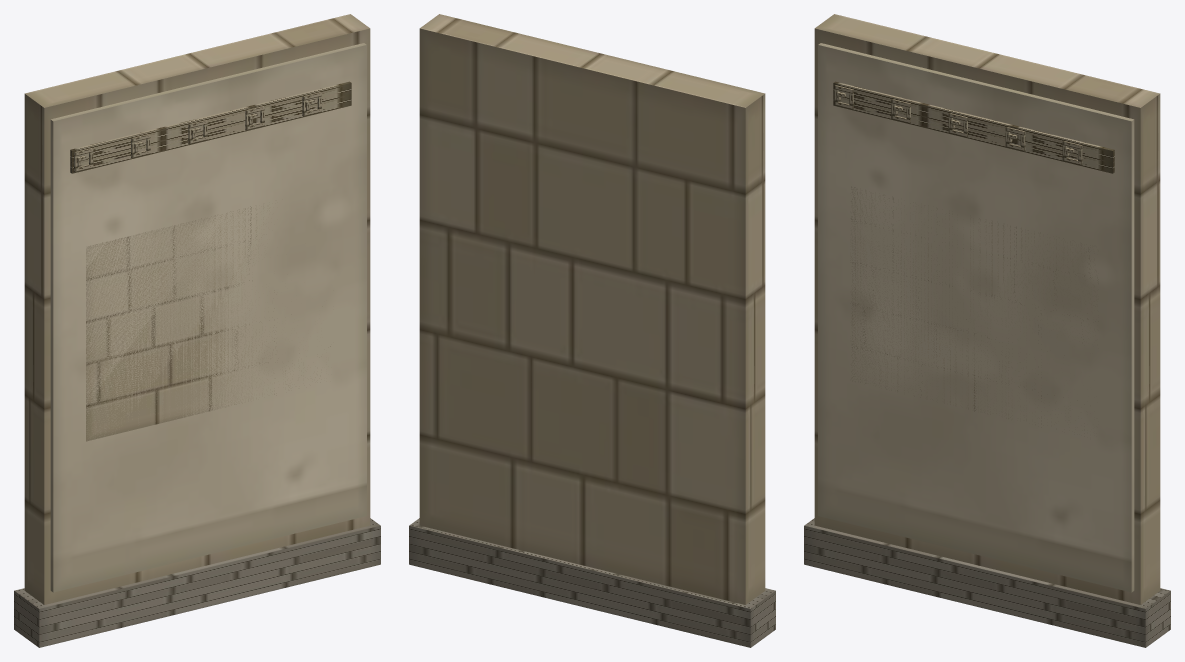
The model's file is ae_duel_stone_wall_panel_lod1.glb.
3 views of the same model, side by side, from view 1: azimuth 30°, elevation 25°; view 2: azimuth 150°, elevation 25°; view 3: azimuth 330°, elevation 25° (orthographic).
Visible parts, largest first — view 1: ae_duel_stone_wall_panel_lod1; view 2: ae_duel_stone_wall_panel_lod1; view 3: ae_duel_stone_wall_panel_lod1.
Part boxes in pixels (x1,y1,x2,y2): ae_duel_stone_wall_panel_lod1: (14, 14, 380, 647); ae_duel_stone_wall_panel_lod1: (409, 14, 775, 647); ae_duel_stone_wall_panel_lod1: (804, 14, 1170, 647).
Bounding box in the file's own units: 2.2 × 3.3 × 0.3191.
Materials: 1 (1 with a texture image).
